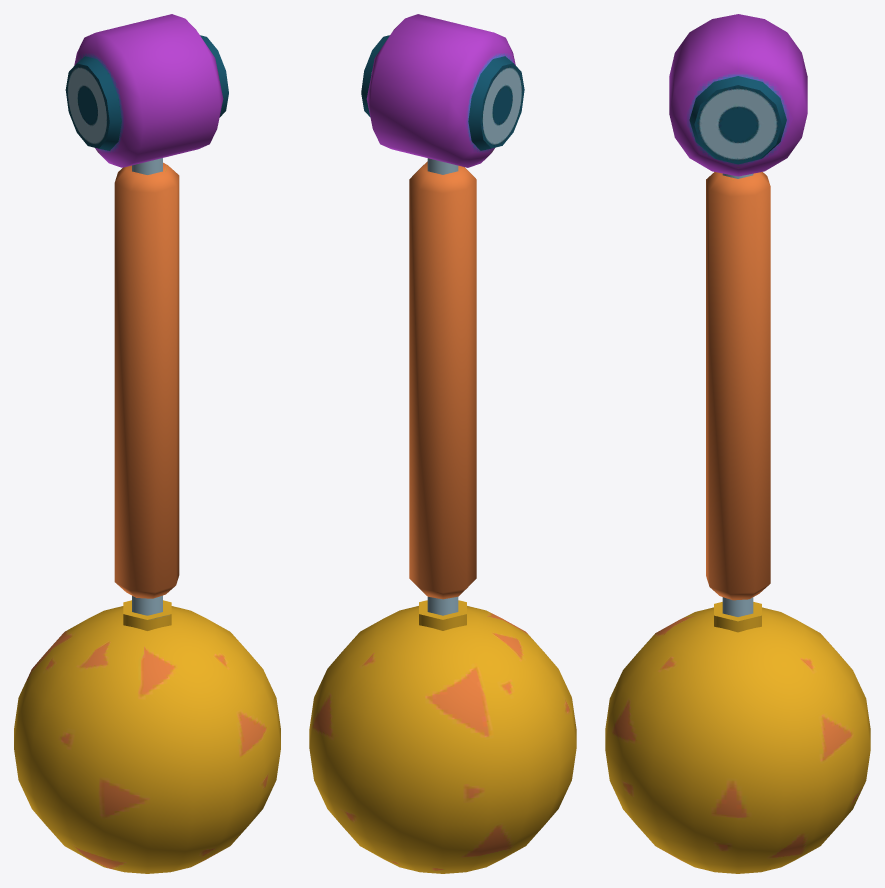
Rendered from toy__swing_obstacle_hammer_ugc_b_000_1x1.glb.
3 renders of one model, left to right at view 1: azimuth 30°, elevation 25°; view 2: azimuth 150°, elevation 25°; view 3: azimuth 270°, elevation 25°, orthographic.
Parts seen in each view (by area): view 1: SwingObstacleHammer_SwingObstacle_0_0, SwingObstacleHammerShaft_SwingObstacleHammer_0_3, SwingObstacleHammer (1)_SwingObstacleHammer_0_2; view 2: SwingObstacleHammer_SwingObstacle_0_0, SwingObstacleHammerShaft_SwingObstacleHammer_0_3, SwingObstacleHammer (1)_SwingObstacleHammer_0_2; view 3: SwingObstacleHammer_SwingObstacle_0_0, SwingObstacleHammerShaft_SwingObstacleHammer_0_3, SwingObstacleHammer (1)_SwingObstacleHammer_0_2.
Part boxes in pixels (box(x1,y1,x2,y2)): SwingObstacleHammer_SwingObstacle_0_0: box(14, 600, 280, 873); SwingObstacleHammerShaft_SwingObstacleHammer_0_3: box(114, 158, 179, 615); SwingObstacleHammer (1)_SwingObstacleHammer_0_2: box(65, 14, 228, 167); SwingObstacleHammer_SwingObstacle_0_0: box(309, 600, 576, 873); SwingObstacleHammerShaft_SwingObstacleHammer_0_3: box(409, 158, 476, 615); SwingObstacleHammer (1)_SwingObstacleHammer_0_2: box(361, 14, 524, 167); SwingObstacleHammer_SwingObstacle_0_0: box(605, 602, 870, 873); SwingObstacleHammerShaft_SwingObstacleHammer_0_3: box(706, 172, 770, 616); SwingObstacleHammer (1)_SwingObstacleHammer_0_2: box(669, 14, 807, 176).
Bounding box in the file's own units: 1.44 × 4.9 × 1.42.
2 materials, 2 textured.
